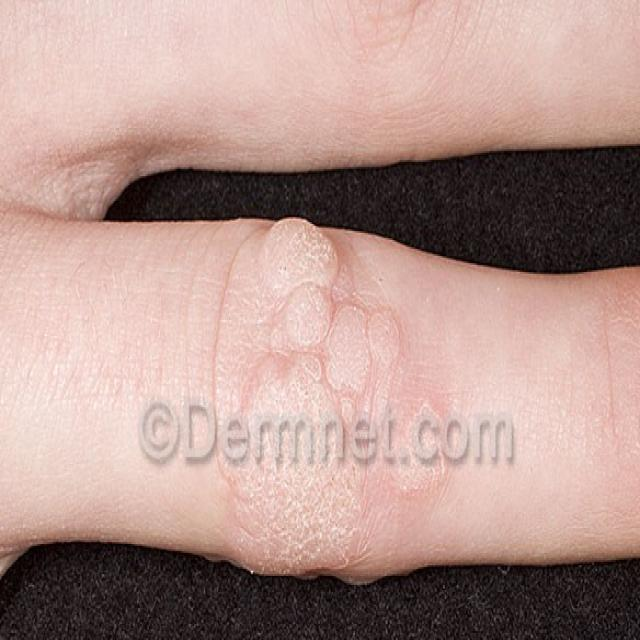Warts: (227, 218, 423, 607)
